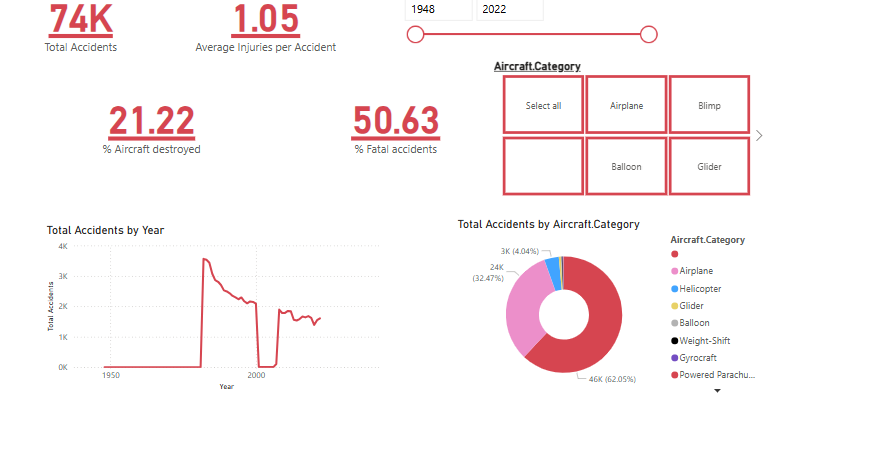

This screenshot's page, from the dashboard's own definition file:
{"tool":"powerbi","page":{"name":"Overview","canvas":[1280,720],"ordinal":0},"visuals":[{"type":"card","fields":{"Values":["Aviation_Data.Total Accidents"]},"box":[0,0,236.1,170.8],"z":0},{"type":"card","fields":{"Values":["Aviation_Data.Average Injuries per Accident"]},"box":[270.8,0,236.1,170.8],"z":1000},{"type":"card","fields":{"Values":["Aviation_Data.% Fatal accidents"]},"box":[461.1,148.6,236.1,172.2],"z":2000},{"type":"card","fields":{"Values":["Aviation_Data.% Aircraft destroyed"]},"box":[104.2,151.4,236.1,169.4],"z":3000},{"type":"slicer","fields":{"Values":["Aviation_Data.Year"]},"box":[579.5,21.4,391,116.8],"z":4000},{"type":"lineChart","fields":{"Y":["Aviation_Data.Total Accidents"],"Category":["Aviation_Data.Year"]},"box":[62.5,381.9,500,250],"z":5000},{"type":"donutChart","fields":{"Category":["Aviation_Data.Aircraft.Category"],"Y":["Aviation_Data.Total Accidents"]},"box":[663.9,373.6,456.9,266.7],"z":6000},{"type":"slicer","fields":{"Values":["Aviation_Data.Aircraft.Category"]},"box":[709.1,138.2,412.4,211],"z":7000}]}

Visuals, with their boxes on the page's 1280x720 design canvas (x1, y1, x2, y2). These are canvas units, not pixel positions in the 873x454 screenshot, which may show the page scaled, cropped or inside an application window:
card - Aviation_Data.Total Accidents: [0,0,236,171]
card - Aviation_Data.Average Injuries per Accident: [271,0,507,171]
card - Aviation_Data.% Fatal accidents: [461,149,697,321]
card - Aviation_Data.% Aircraft destroyed: [104,151,340,321]
slicer - Aviation_Data.Year: [580,21,970,138]
lineChart - Aviation_Data.Total Accidents x Aviation_Data.Year: [62,382,562,632]
donutChart - Aviation_Data.Aircraft.Category x Aviation_Data.Total Accidents: [664,374,1121,640]
slicer - Aviation_Data.Aircraft.Category: [709,138,1122,349]
